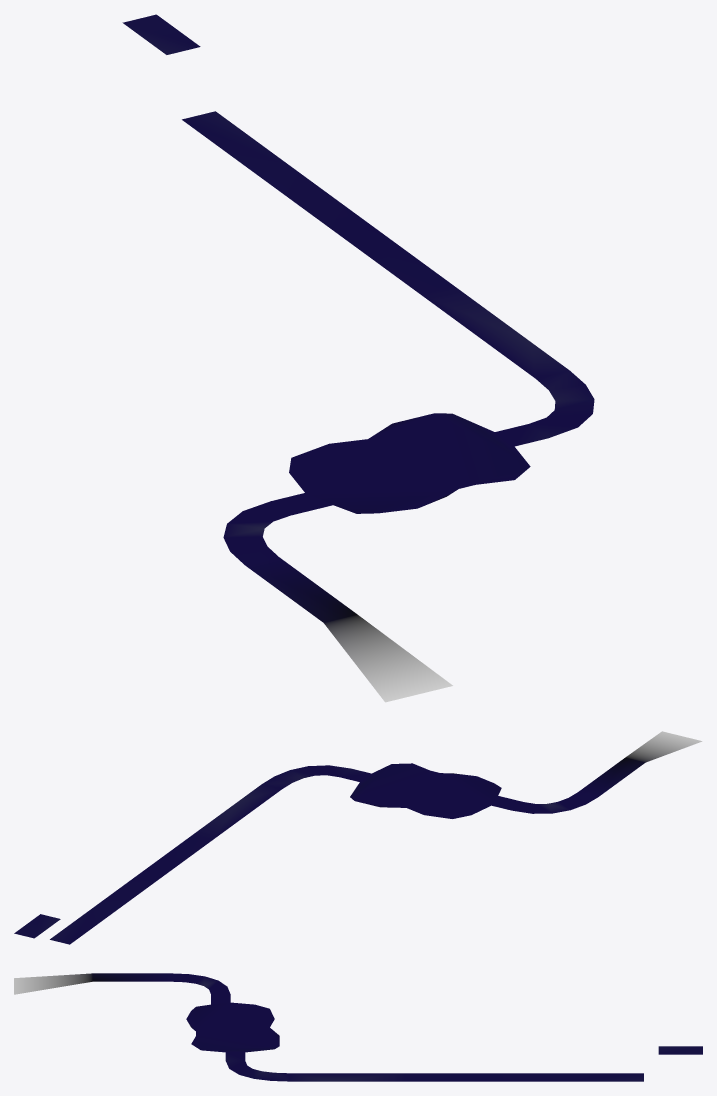
Rendered from island-8x7_riverbed.glb.
The picture shows the model from 3 angles, top to bottom: view 1: azimuth 30°, elevation 25°; view 2: azimuth 150°, elevation 25°; view 3: azimuth 270°, elevation 25°; orthographic projection. The views are drawn at different scales.
Visible parts, largest first — view 1: island-8x7-riverbed; view 2: island-8x7-riverbed; view 3: island-8x7-riverbed.
Part boxes in pixels (<box>): island-8x7-riverbed: <box>122,14,594,702</box>; island-8x7-riverbed: <box>14,731,702,944</box>; island-8x7-riverbed: <box>14,973,702,1081</box>.
Bounding box in the file's own units: 54 × 8 × 140.
